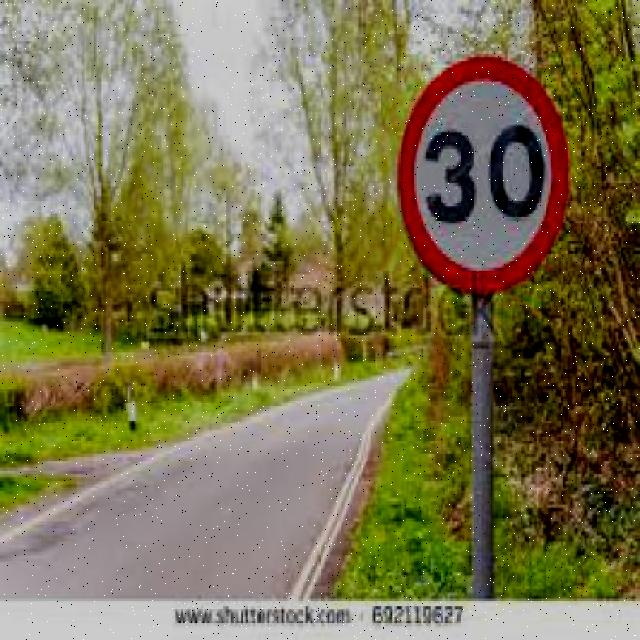Ograniczenie predkosci do 30: (397, 58, 572, 288)
